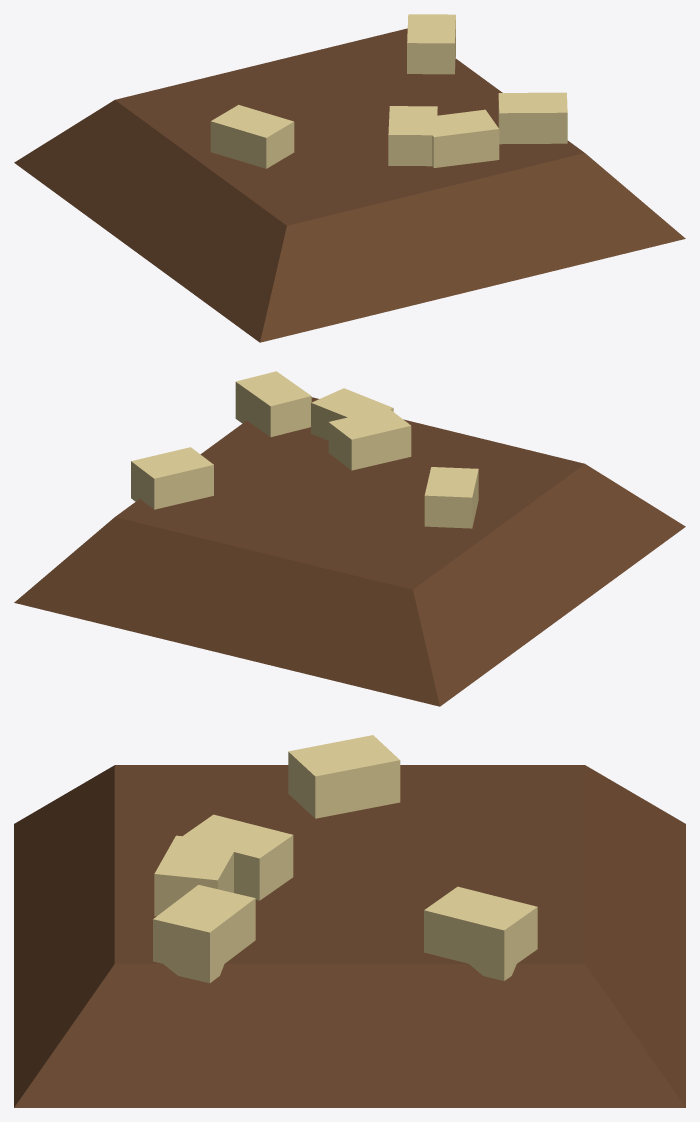
File: strawberry_0.obj
The picture shows the model from 3 angles, top to bottom: view 1: azimuth 30°, elevation 25°; view 2: azimuth 150°, elevation 25°; view 3: azimuth 270°, elevation 25°; orthographic projection. The views are drawn at different scales.
Parts seen in each view (by area): view 1: plant; view 2: plant; view 3: plant.
Boxes of the visible parts, bbox=[...] form: plant: bbox=[14, 14, 685, 342]; plant: bbox=[14, 371, 685, 706]; plant: bbox=[14, 735, 685, 1107].
Size of the model in its own units: 0.36 by 0.085 by 0.36.
